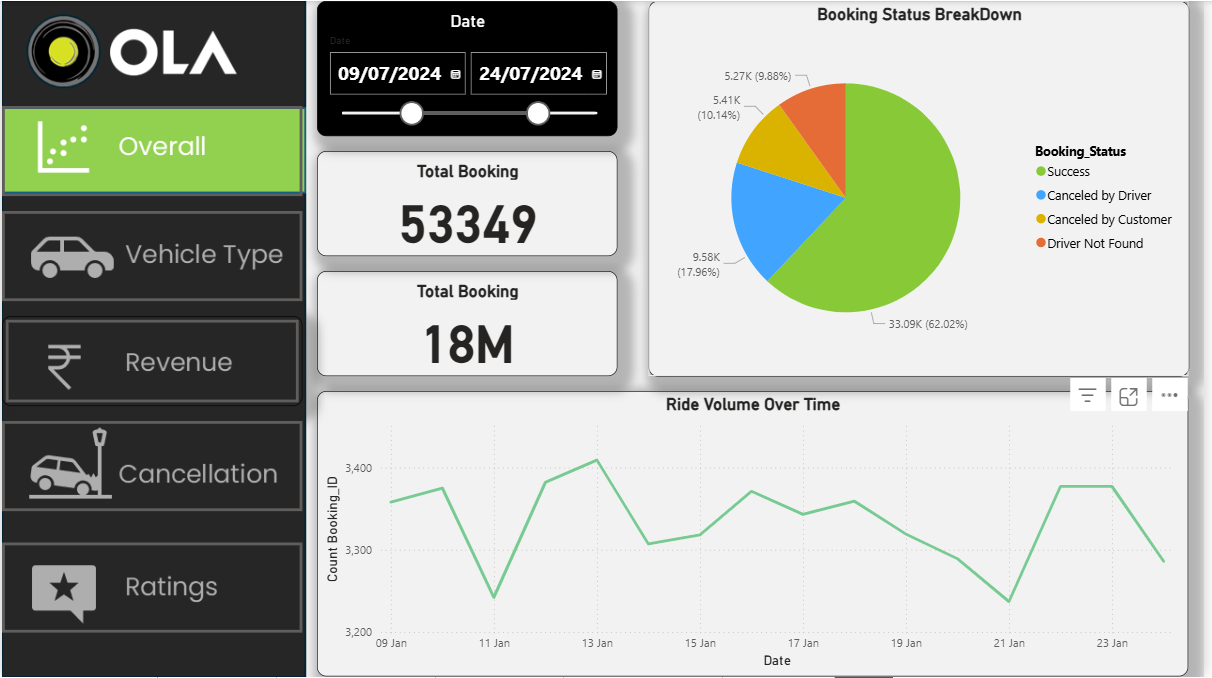

What the dashboard file says about the page in this screenshot:
{"tool":"powerbi","page":{"name":"Overall","canvas":[1280,720],"ordinal":0},"visuals":[{"type":"actionButton","box":[0,224,320,96],"z":0},{"type":"actionButton","box":[0,336,320,96],"z":1000},{"type":"actionButton","box":[0,448,320,96],"z":2000},{"type":"actionButton","box":[0,576,320,96],"z":3000},{"type":"actionButton","box":[0,112,320,96],"z":4000},{"type":"lineChart","title":"Ride Volume Over Time","fields":{"Y":["CountNonNull(July.Booking_ID)"],"Category":["July.Date.Variation.Date Hierarchy.Year","July.Date.Variation.Date Hierarchy.Day"]},"box":[336,416,928,304],"z":5000},{"type":"pieChart","title":"Booking Status BreakDown","fields":{"Category":["July.Booking_Status"],"Y":["CountNonNull(July.Booking_Status)"]},"box":[688,0,576,400],"z":6000},{"type":"slicer","title":"Date","fields":{"Values":["July.Date"]},"box":[336,0,320,144],"z":7000},{"type":"card","title":"Total Booking","fields":{"Values":["Count(July.Booking_ID)"]},"box":[336,160,320,112],"z":8000},{"type":"card","title":"Total Booking","fields":{"Values":["Sum(July.Booking_Value)"]},"box":[336,288,320,112],"z":9000}]}

Visuals, with their boxes in screenshot pixels (x1, y1, x2, y2), scaled from the page's 1280x720 canvas onto the 1212x678 screenshot:
actionButton: rect(0, 211, 303, 301)
actionButton: rect(0, 316, 303, 407)
actionButton: rect(0, 422, 303, 512)
actionButton: rect(0, 542, 303, 633)
actionButton: rect(0, 105, 303, 196)
"Ride Volume Over Time" lineChart: rect(318, 392, 1197, 677)
"Booking Status BreakDown" pieChart: rect(651, 0, 1197, 377)
"Date" slicer: rect(318, 0, 621, 136)
"Total Booking" card: rect(318, 151, 621, 256)
"Total Booking" card: rect(318, 271, 621, 377)
